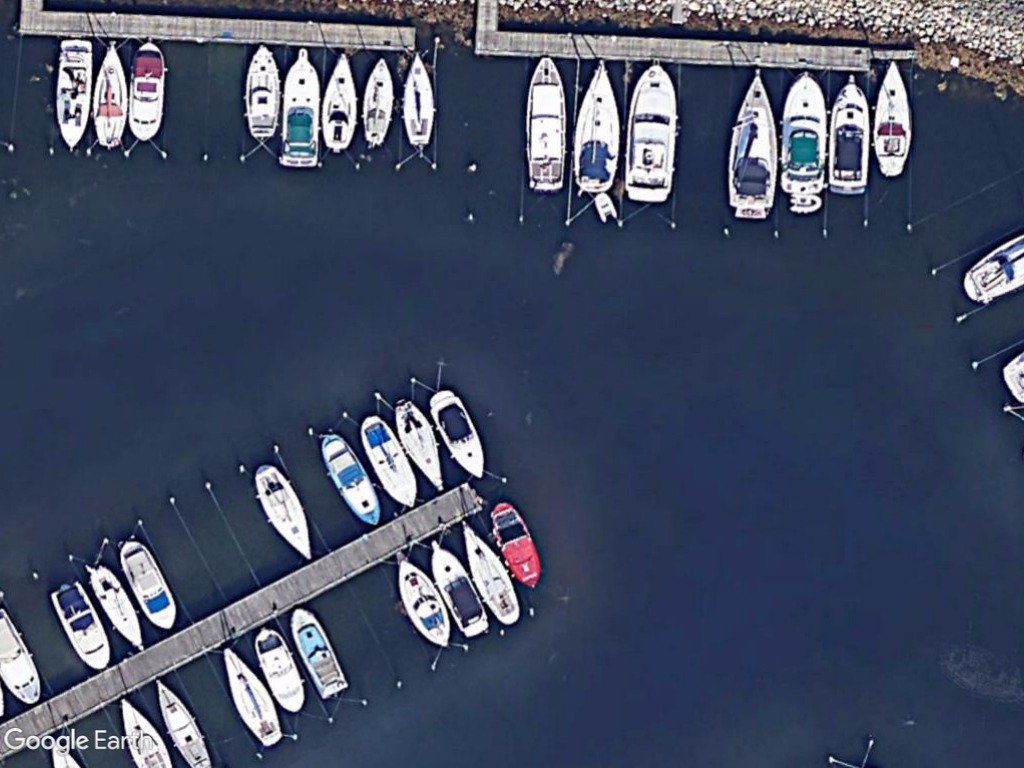boat: (619, 58, 680, 207), (723, 60, 779, 220), (566, 50, 625, 198), (217, 640, 292, 756), (456, 516, 525, 635), (773, 60, 831, 197), (519, 52, 573, 194), (424, 535, 493, 644), (317, 427, 386, 533), (114, 531, 182, 635), (46, 575, 116, 676), (252, 459, 318, 564), (285, 601, 352, 704), (82, 559, 151, 659), (149, 672, 220, 768), (425, 384, 491, 485), (390, 390, 453, 495), (360, 408, 422, 513), (272, 46, 325, 168), (393, 551, 456, 653), (825, 70, 873, 200), (869, 56, 917, 183), (248, 623, 310, 720), (485, 495, 544, 594), (87, 31, 132, 156), (53, 31, 97, 154), (122, 33, 168, 147), (395, 44, 440, 157), (317, 46, 364, 151), (239, 41, 286, 143), (359, 52, 397, 148)
